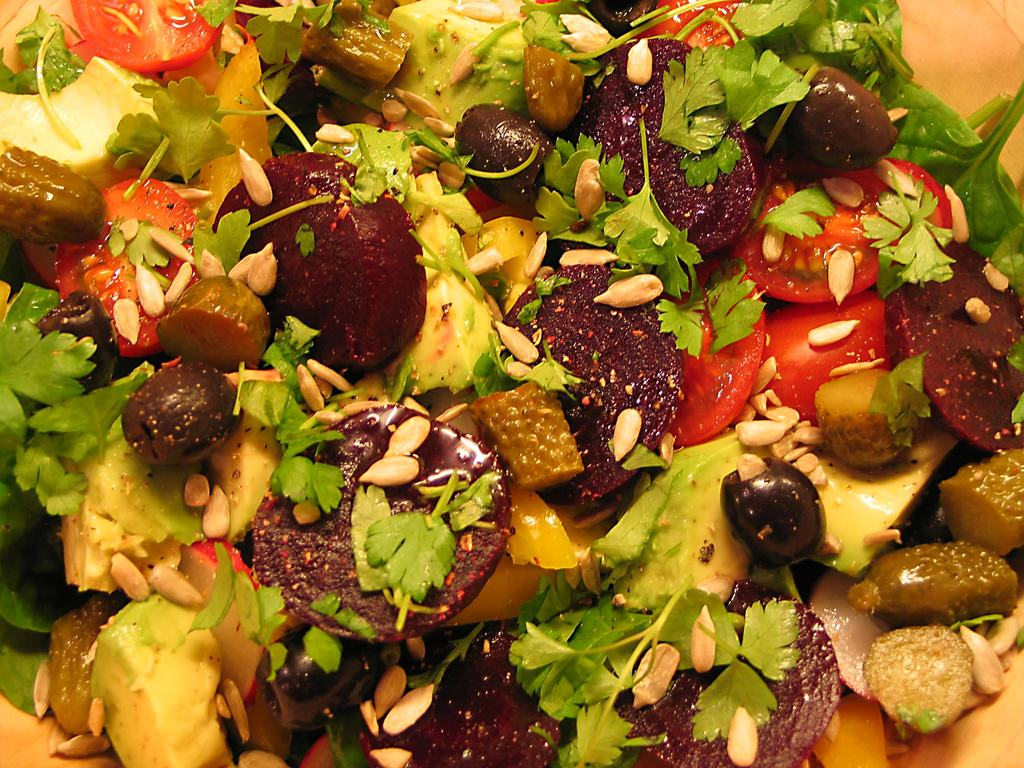salad: (0, 0, 1023, 765)
